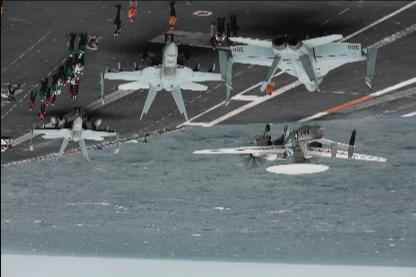C5: (192, 122, 386, 173)
F15: (98, 34, 232, 120), (218, 30, 376, 92), (29, 107, 119, 160)
